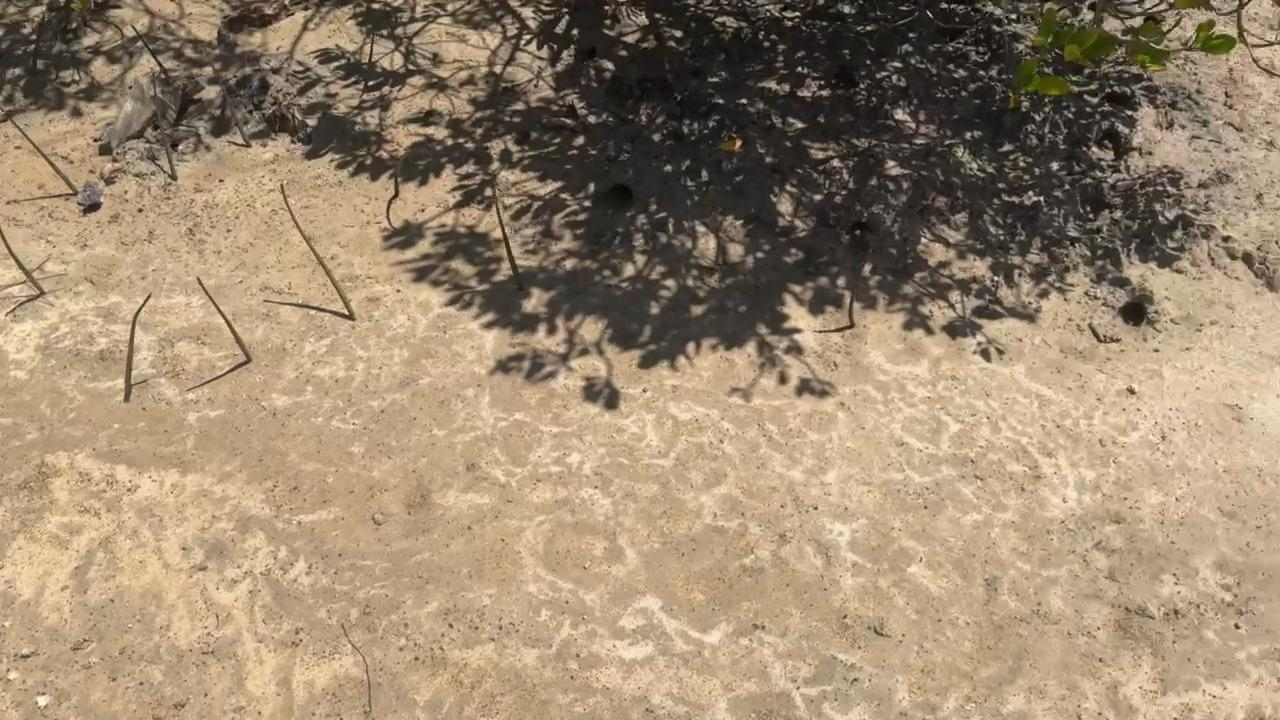Tree: (278, 182, 358, 323), (0, 105, 79, 195), (193, 273, 253, 363), (207, 50, 254, 148), (0, 224, 48, 295), (493, 196, 526, 292), (152, 70, 178, 181), (126, 292, 153, 387), (129, 21, 168, 75), (848, 281, 858, 328), (392, 160, 400, 198)
